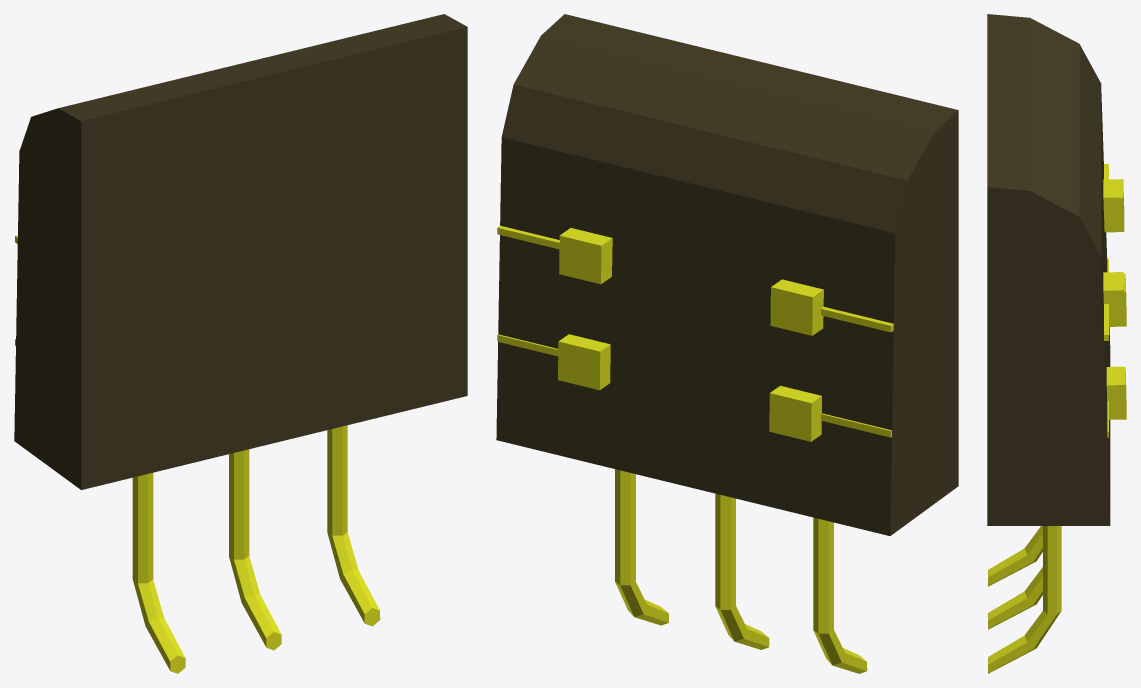
Rendered from electricalBoard.fbx.
The picture shows the model from 3 angles, left to right: view 1: azimuth 30°, elevation 25°; view 2: azimuth 150°, elevation 25°; view 3: azimuth 270°, elevation 25°; orthographic projection. The views are drawn at different scales.
Visible parts, largest first — view 1: ElectricalBoard; view 2: ElectricalBoard; view 3: ElectricalBoard.
Boxes of the visible parts, x1,y1,x2,y2 form: ElectricalBoard: (14,14,467,673); ElectricalBoard: (496,14,958,673); ElectricalBoard: (987,14,1126,673).
Bounding box in the file's own units: 200 × 285 × 67.91.
